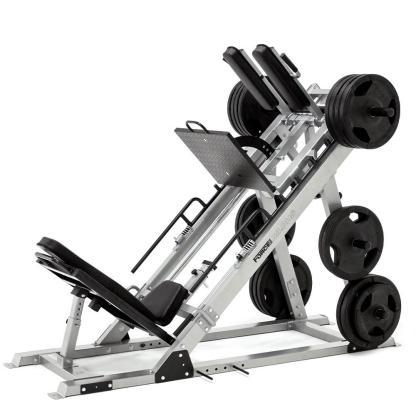leg press: (6, 38, 416, 416)
